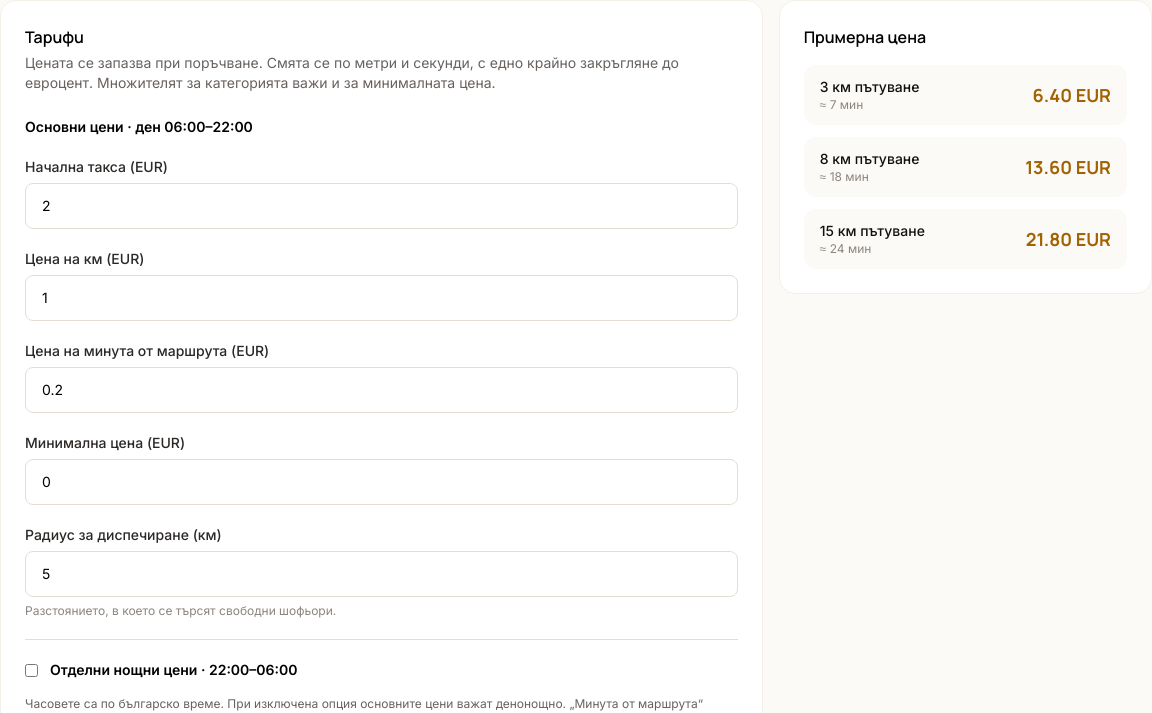
does not turn an empty price into a submitted zero
Clear the number field labelled "Цена на км (EUR)" at (381, 298), box 25,275 -> 738,321
(page scrolled)
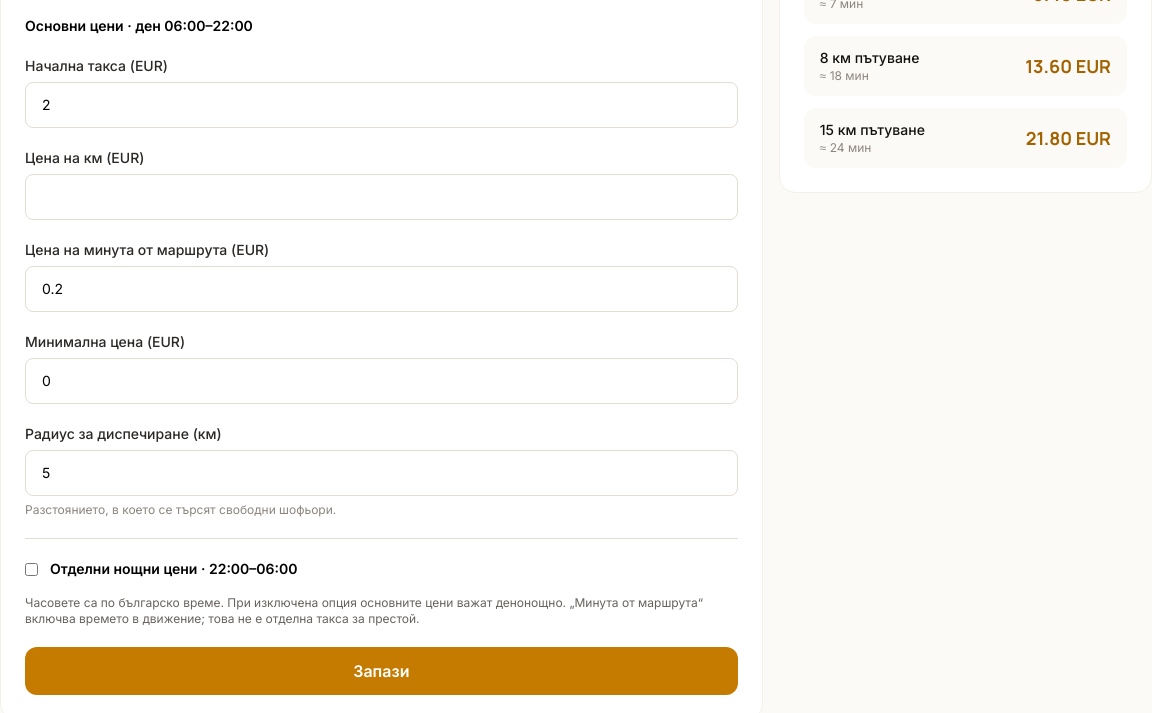
Click the button "Запази" at (381, 671), box 25,647 -> 738,695
(page scrolled)
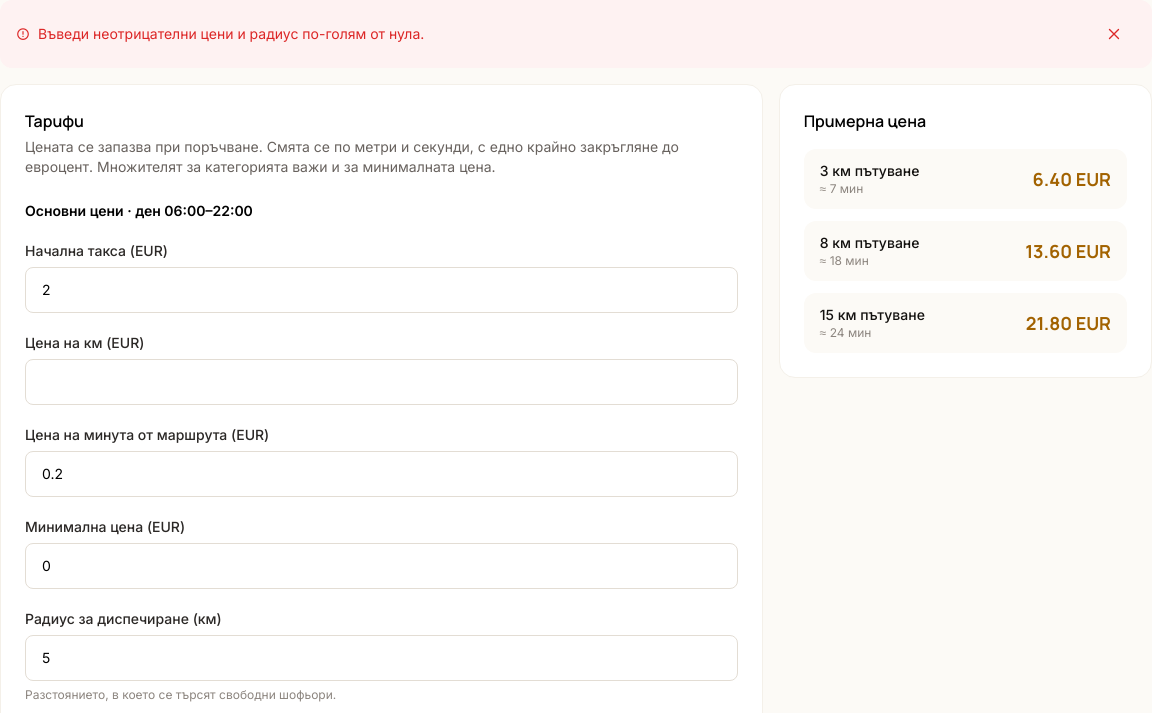
Expected: the text "Въведи неотрицателни цени и радиус по-голям от нула." is shown, 0,0 -> 1151,68
